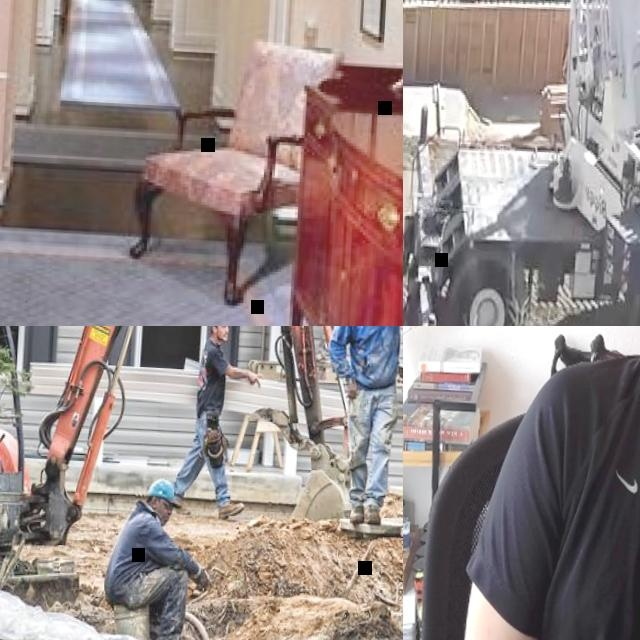NO-Hardhat: (145, 476, 183, 500)
NO-Mask: (215, 330, 229, 341), (159, 515, 170, 528)
NO-Safety Vest: (529, 366, 640, 640), (113, 513, 159, 582), (351, 326, 403, 386), (196, 344, 226, 409)
Person: (456, 326, 640, 640), (101, 473, 220, 640), (170, 326, 267, 520), (319, 326, 403, 524)
machinery: (0, 326, 365, 630), (403, 0, 640, 326)
